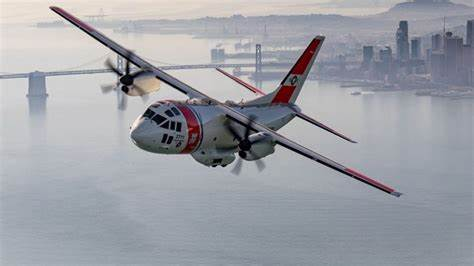Aeronef_de_service: (42, 1, 416, 200)
